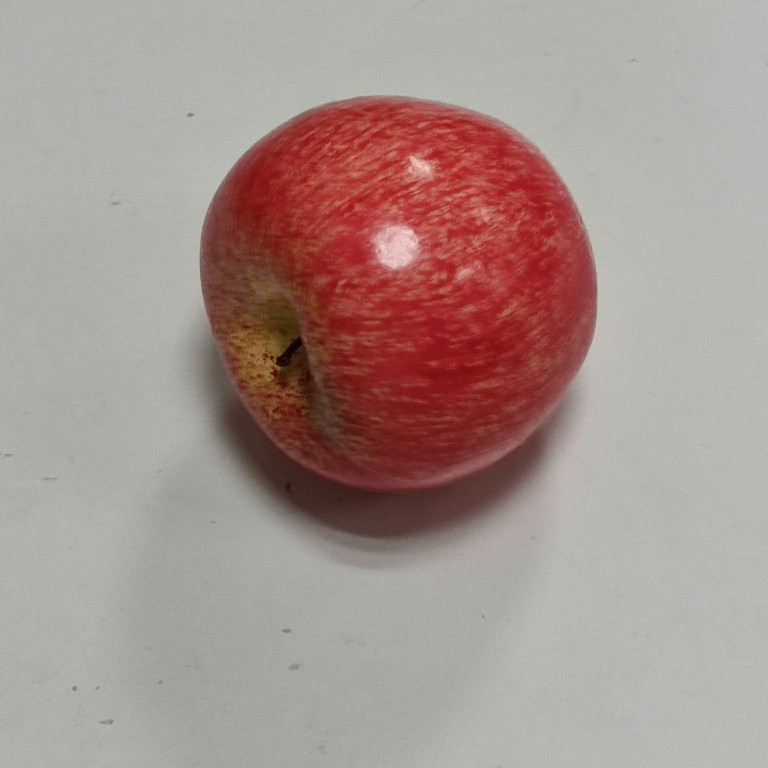fruit_apple: (196, 92, 603, 499)
